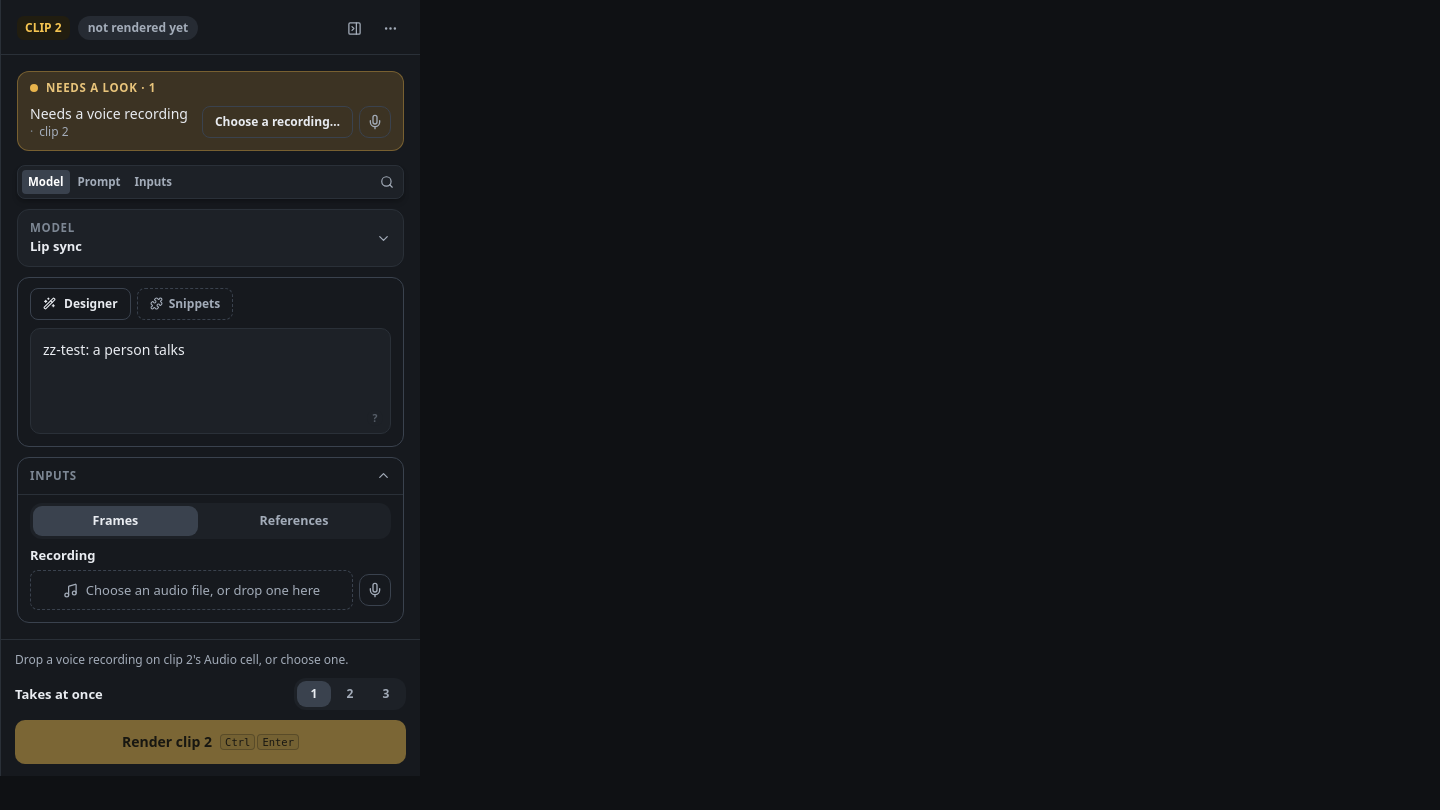
it: a Lip sync clip without a voice, in the column › is in the inspector's Needs a look, whose Choose a recording opens the Recording picker
Expected: the text "Needs a look · 1" is shown, [46, 80, 156, 95]
Expected: the text "Needs a voice recording" is shown, [30, 104, 188, 123]
Click the button "Choose a recording…" at (278, 122), box [202, 106, 353, 138]
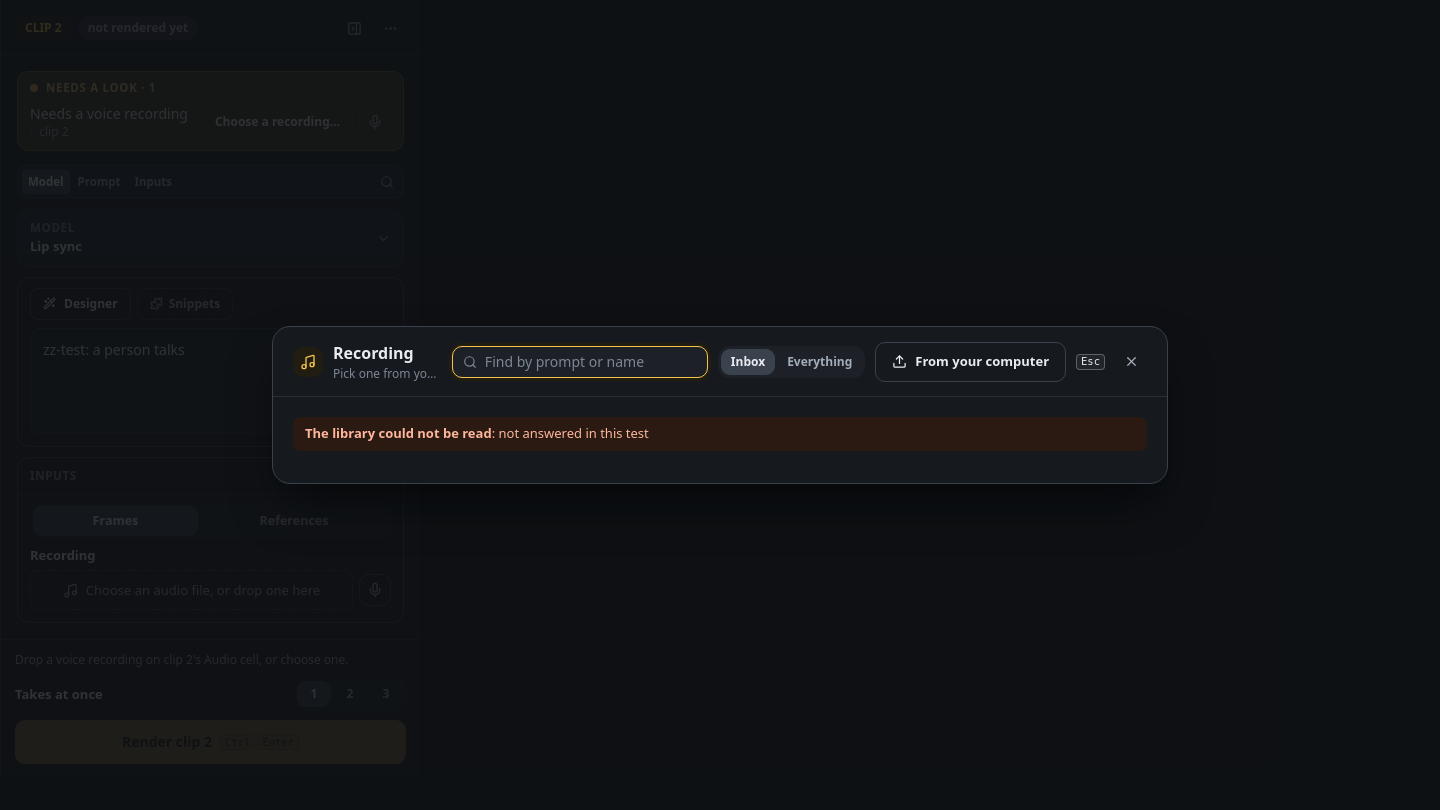
Expected: the dialog "Recording" is shown
